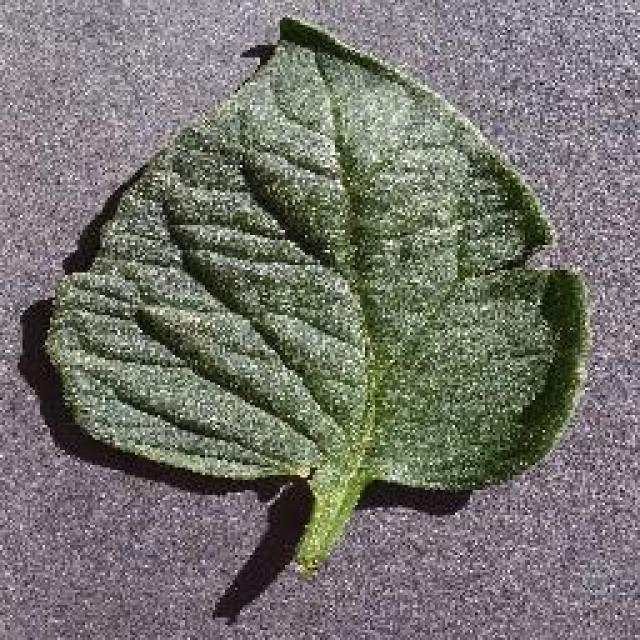healthy: (37, 14, 592, 583)
